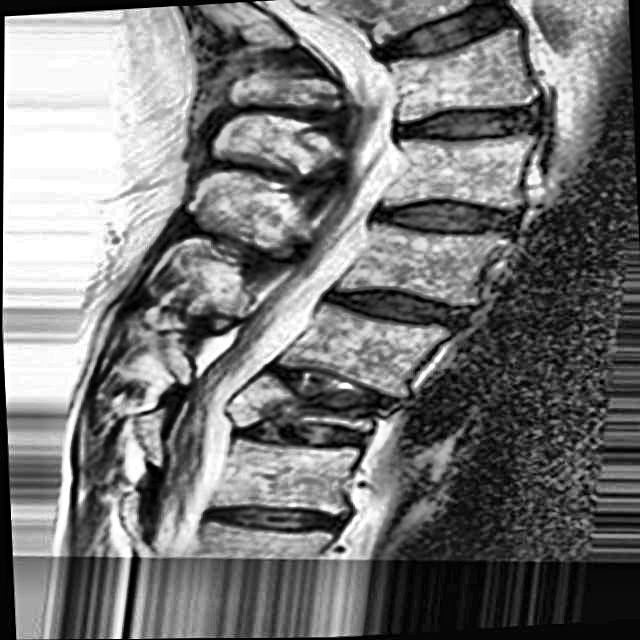Comminuted: (224, 357, 398, 462)
